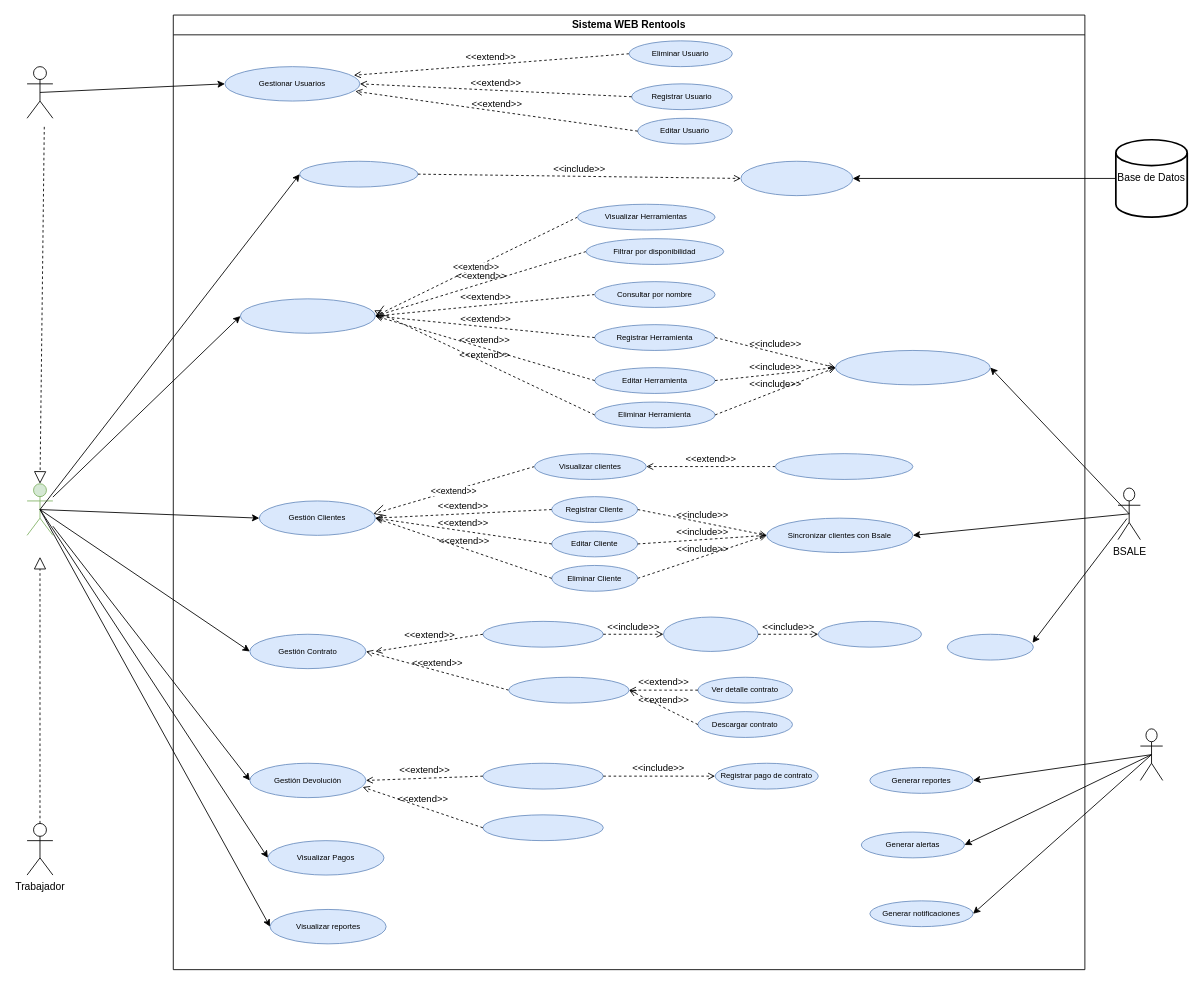
The diagram is 1202 pixels wide and 985 high, and some of its shapes have lost their labels. The shapes that lost their labels are listed below. From the top down, each one's box as (x1, y1, x2, y2) in pixels, then its label:
(26, 66, 53, 118): Actor
(299, 160, 418, 187): Iniciar Sesión
(740, 160, 853, 196): Verificar Usuario
(240, 298, 375, 333): Gestionar Herramientas
(835, 350, 990, 385): Sincronizar herramientas con Bsale
(774, 453, 913, 479): Ver Historial de arriendos
(26, 483, 53, 535): Usuario
(482, 620, 603, 647): Registrar contrato
(663, 616, 758, 651): Registrar pago garantía
(817, 620, 921, 647): Generar documento electrónico
(946, 633, 1033, 660): Generar DTE
(508, 676, 629, 703): Visualizar contratos
(1140, 728, 1163, 780): Sistema
(482, 762, 603, 789): Registrar devolución
(482, 814, 603, 841): Visualizar devoluciones
